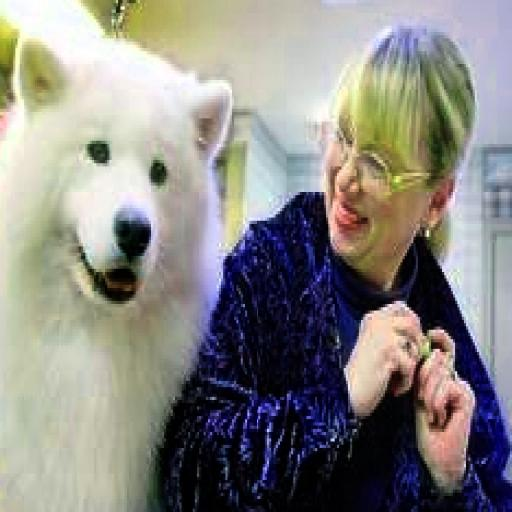dog_face: (13, 29, 230, 307)
